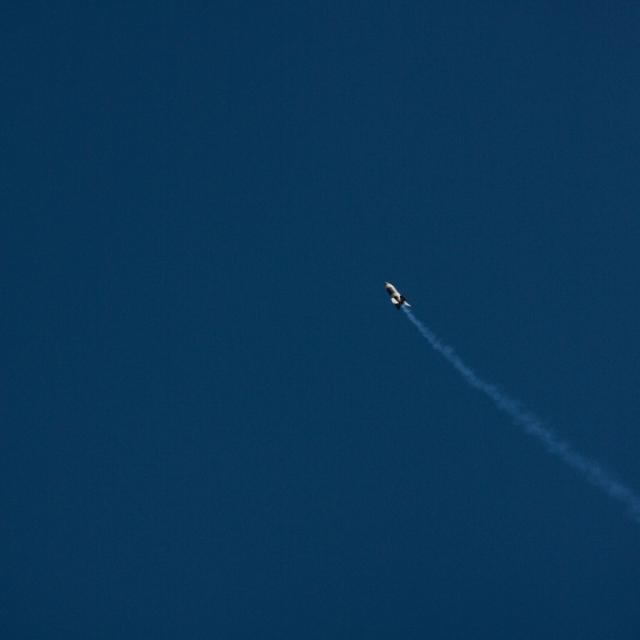Rocket: (384, 282, 411, 310)
